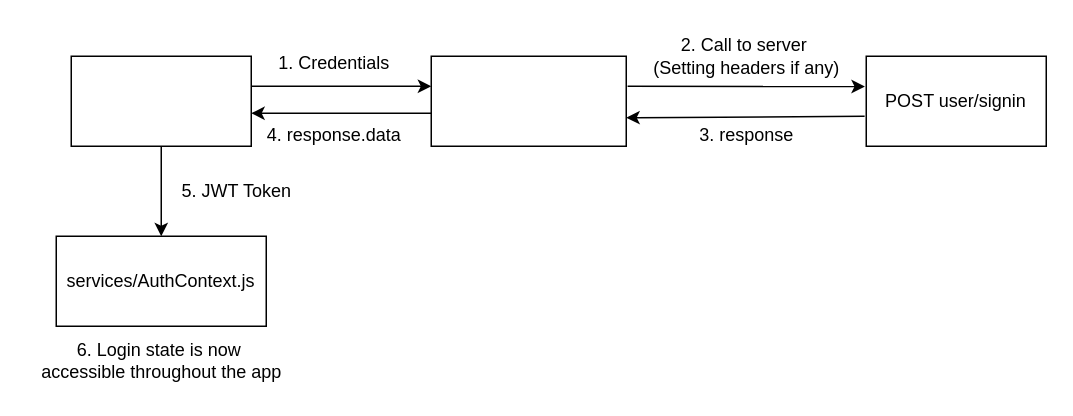
This 1073x416 diagram has some shape labels left out. The shapes that lost their labels are listed below. From the top down, each one's centre as x and y in pixels, then its label:
[160,100]: /signin
[528,100]: services/ApiService.js
